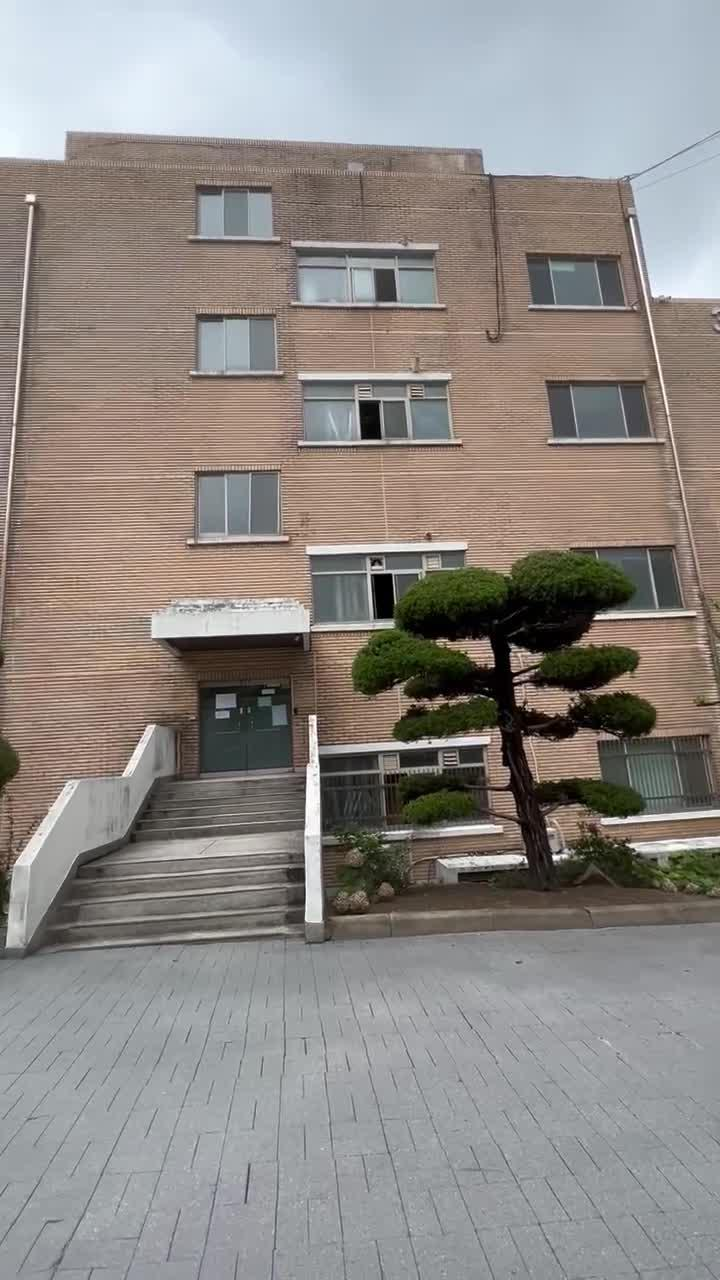building: (44, 126, 684, 590)
